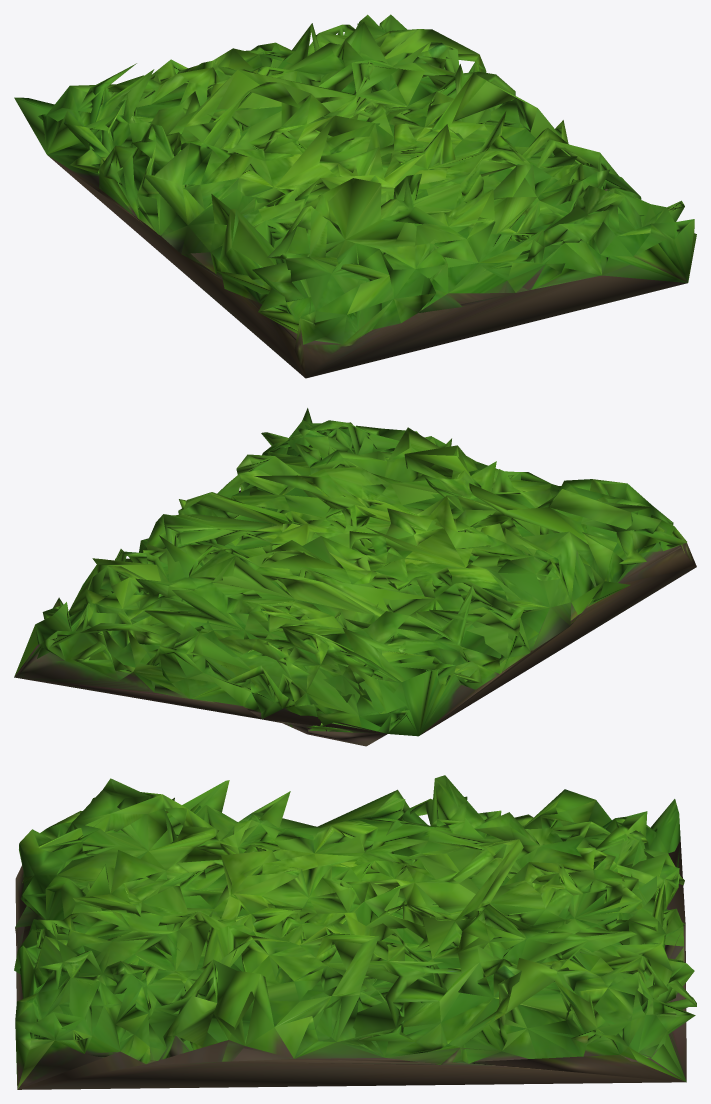
Rendered from gnd_alpine_alpine_grass.fbx.
3 views of the same model, one above another, from view 1: azimuth 30°, elevation 25°; view 2: azimuth 150°, elevation 25°; view 3: azimuth 270°, elevation 25° (orthographic). The views are drawn at different scales.
Parts seen in each view (by area): view 1: gnd_alpine_alpine_grass_LOD0; view 2: gnd_alpine_alpine_grass_LOD0; view 3: gnd_alpine_alpine_grass_LOD0.
Part boxes in pixels (<box>): gnd_alpine_alpine_grass_LOD0: <box>14,14,696,378</box>; gnd_alpine_alpine_grass_LOD0: <box>14,408,696,746</box>; gnd_alpine_alpine_grass_LOD0: <box>14,775,696,1089</box>.
Size of what is drawn, in the model's own units: 0.7403 by 0.1816 by 0.9022.
